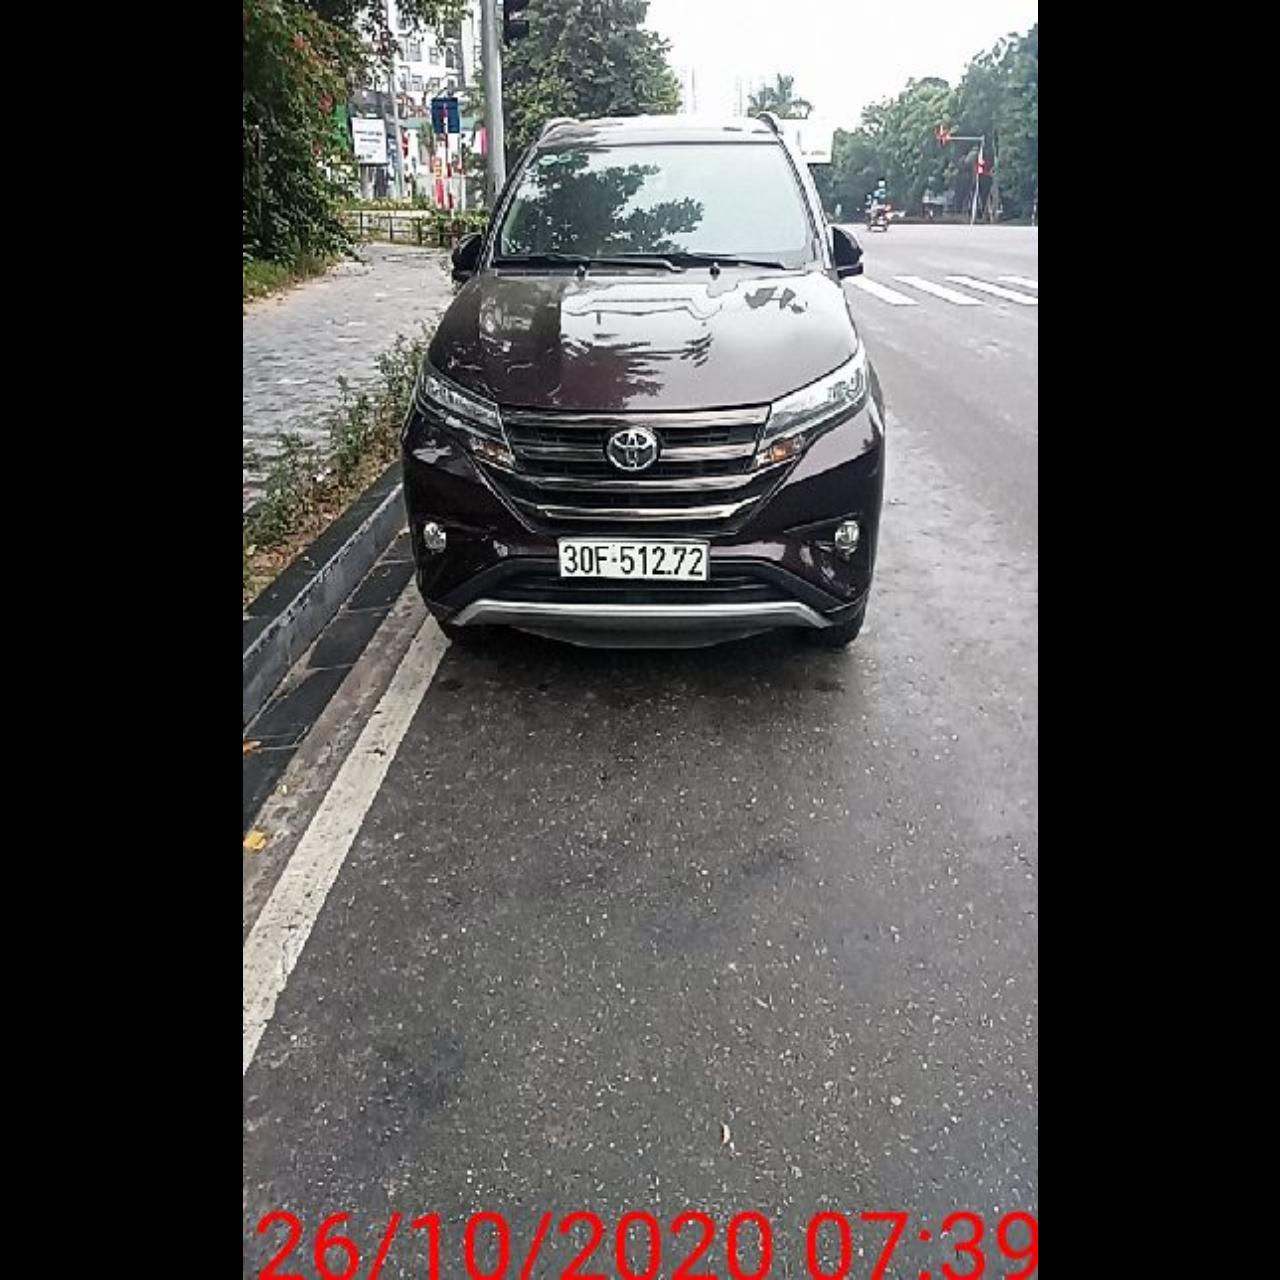bienso: (554, 534, 710, 586)
